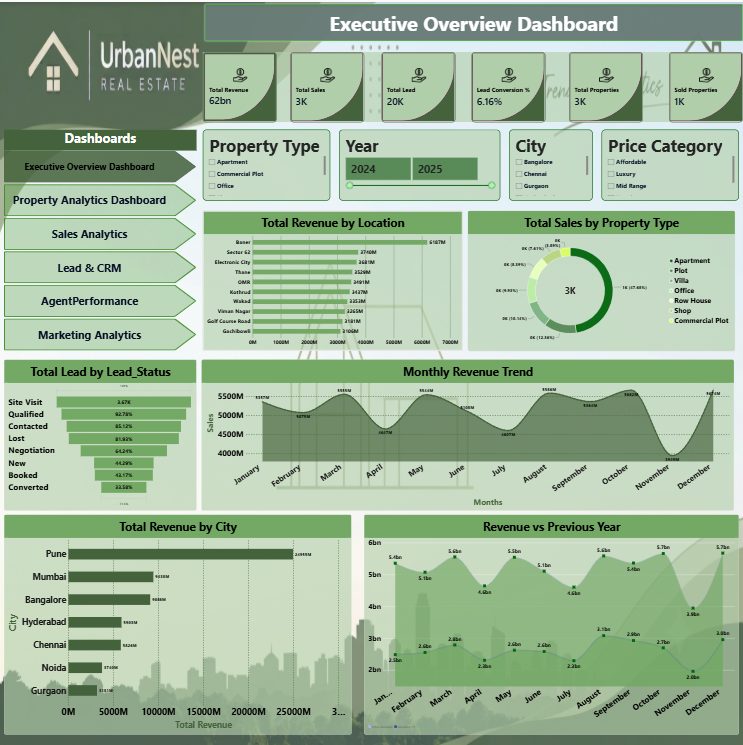

The page's visual inventory and layout, read from the dashboard file:
{"tool":"powerbi","page":{"name":"Executive Overview Dashboard","canvas":[3000,3000],"ordinal":0},"visuals":[{"type":"shape","box":[820,0,2180,165],"z":0},{"type":"cardVisual","fields":{"Data":["_SalesMeasures.Total Revenue"]},"box":[820,200,297.5,282.8],"z":0,"group":"g1"},{"type":"group","id":"g1","title":"Group 1","box":[820,200,2165,285],"z":1000},{"type":"cardVisual","fields":{"Data":["_SalesMeasures.Total Sales"]},"box":[1171.2,200,297.5,282.8],"z":1000,"group":"g1"},{"type":"cardVisual","fields":{"Data":["_LeadMeasures.Total Lead"]},"box":[1539.4,200,297.5,282.8],"z":2000,"group":"g1"},{"type":"lineChart","title":"Monthly Revenue Trend","fields":{"Category":["Dim_Date.Date.Variation.Date Hierarchy.Month"],"Y":["_SalesMeasures.Total Revenue"]},"box":[814.3,1437.7,2141.4,608.2],"z":2000},{"type":"cardVisual","fields":{"Data":["_LeadMeasures.Lead Conversion %"]},"box":[1900.4,200,297.5,282.8],"z":3000,"group":"g1"},{"type":"lineChart","title":"Revenue vs Previous Year","fields":{"Category":["Dim_Date.Date.Variation.Date Hierarchy.Month"],"Y":["_SalesMeasures.Total Revenue","_TimeIntelligence.Revenue PY"]},"box":[1467.8,2061,1508.1,884.7],"z":3000},{"type":"cardVisual","fields":{"Data":["_PropertyMeasures.Total Properties"]},"box":[2293,200,297.5,282.8],"z":4000,"group":"g1"},{"type":"clusteredBarChart","fields":{"Category":["Dim_Location.City"],"Y":["_SalesMeasures.Total Revenue"]},"box":[20.1,2061,1397.5,884.7],"z":4000},{"type":"cardVisual","fields":{"Data":["_PropertyMeasures.Sold Properties"]},"box":[2693,200,297.5,282.8],"z":5000,"group":"g1"},{"type":"donutChart","title":"Total Sales by Property Type","fields":{"Category":["Dim_Property.Property_Type"],"Y":["_SalesMeasures.Total Sales"]},"box":[1885.1,839.5,1075,565],"z":5000},{"type":"pageNavigator","title":"Dashboards","box":[20.1,512.7,774.1,889.7],"z":6000},{"type":"funnel","fields":{"Category":["Fact_Leads.Lead_Status"],"Y":["_LeadMeasures.Total Lead"]},"box":[20.1,1437.7,774.1,608.2],"z":7000},{"type":"barChart","fields":{"Category":["Dim_Location.Location"],"Y":["_SalesMeasures.Total Revenue"]},"box":[819.4,839.5,1045.6,563],"z":8000},{"type":"slicer","fields":{"Values":["Dim_Date.Year"]},"box":[1367.3,512.7,648.5,286.5],"z":9000},{"type":"slicer","fields":{"Values":["Dim_Location.City"]},"box":[2050.9,512.7,336.8,286.5],"z":10000},{"type":"slicer","fields":{"Values":["Dim_Property.Property_Type"]},"box":[819.4,512.7,512.7,286.5],"z":11000},{"type":"slicer","fields":{"Values":["Dim_Property.Price_Category"]},"box":[2422.9,512.7,553,286.5],"z":12000}]}

Visuals, with their boxes in screenshot pixels (x1, y1, x2, y2), scaled from the page's 3000x3000 canvas onto the 743x745 screenshot:
shape: x1=203 y1=0 x2=742 y2=41
cardVisual - _SalesMeasures.Total Revenue: x1=203 y1=50 x2=277 y2=120
"Group 1" group: x1=203 y1=50 x2=739 y2=120
cardVisual - _SalesMeasures.Total Sales: x1=290 y1=50 x2=364 y2=120
cardVisual - _LeadMeasures.Total Lead: x1=381 y1=50 x2=455 y2=120
"Monthly Revenue Trend" lineChart: x1=202 y1=357 x2=732 y2=508
cardVisual - _LeadMeasures.Lead Conversion %: x1=471 y1=50 x2=544 y2=120
"Revenue vs Previous Year" lineChart: x1=364 y1=512 x2=737 y2=732
cardVisual - _PropertyMeasures.Total Properties: x1=568 y1=50 x2=642 y2=120
clusteredBarChart - Dim_Location.City x _SalesMeasures.Total Revenue: x1=5 y1=512 x2=351 y2=732
cardVisual - _PropertyMeasures.Sold Properties: x1=667 y1=50 x2=741 y2=120
"Total Sales by Property Type" donutChart: x1=467 y1=208 x2=733 y2=349
"Dashboards" pageNavigator: x1=5 y1=127 x2=197 y2=348
funnel - Fact_Leads.Lead_Status x _LeadMeasures.Total Lead: x1=5 y1=357 x2=197 y2=508
barChart - Dim_Location.Location x _SalesMeasures.Total Revenue: x1=203 y1=208 x2=462 y2=348
slicer - Dim_Date.Year: x1=339 y1=127 x2=499 y2=198
slicer - Dim_Location.City: x1=508 y1=127 x2=591 y2=198
slicer - Dim_Property.Property_Type: x1=203 y1=127 x2=330 y2=198
slicer - Dim_Property.Price_Category: x1=600 y1=127 x2=737 y2=198
